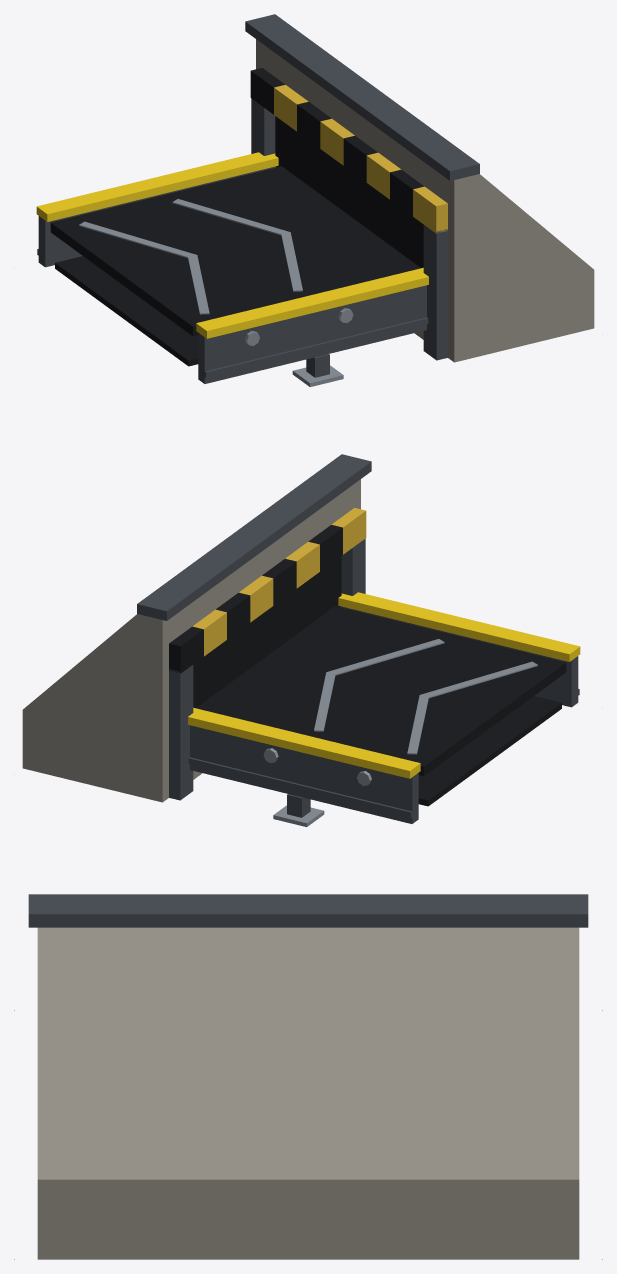
The model's file is convoyeur_tunnel_entree_t1.glb.
The picture shows the model from 3 angles, top to bottom: view 1: azimuth 30°, elevation 25°; view 2: azimuth 150°, elevation 25°; view 3: azimuth 270°, elevation 25°; orthographic projection. The views are drawn at different scales.
Visible parts, largest first — view 1: pieces_noir.024, pieces_acier_sombre.016, bouche.012, pieces_rive_t1.006, pieces_jaune.018, bande_acier.042, pieces_acier.048; view 2: pieces_noir.024, pieces_acier_sombre.016, bouche.012, pieces_rive_t1.006, pieces_jaune.018, bande_acier.042, pieces_acier.048; view 3: bouche.012, pieces_acier_sombre.016.
Boxes of the visible parts, x1=… form: pieces_noir.024: x1=50, y1=68, x2=424, y2=366; pieces_acier_sombre.016: x1=37, y1=14, x2=479, y2=383; bouche.012: x1=256, y1=39, x2=594, y2=362; pieces_rive_t1.006: x1=36, y1=152, x2=428, y2=338; pieces_jaune.018: x1=274, y1=85, x2=447, y2=233; bande_acier.042: x1=79, y1=199, x2=302, y2=314; pieces_acier.048: x1=245, y1=308, x2=353, y2=386; pieces_noir.024: x1=169, y1=525, x2=566, y2=806; pieces_acier_sombre.016: x1=137, y1=454, x2=579, y2=823; bouche.012: x1=22, y1=479, x2=360, y2=802; pieces_rive_t1.006: x1=188, y1=592, x2=580, y2=778; pieces_jaune.018: x1=192, y1=508, x2=366, y2=656; bande_acier.042: x1=314, y1=639, x2=537, y2=754; pieces_acier.048: x1=263, y1=748, x2=371, y2=826; bouche.012: x1=37, y1=927, x2=579, y2=1259; pieces_acier_sombre.016: x1=28, y1=894, x2=588, y2=927.
Size of the model in its own units: 1 by 0.5 by 1.
